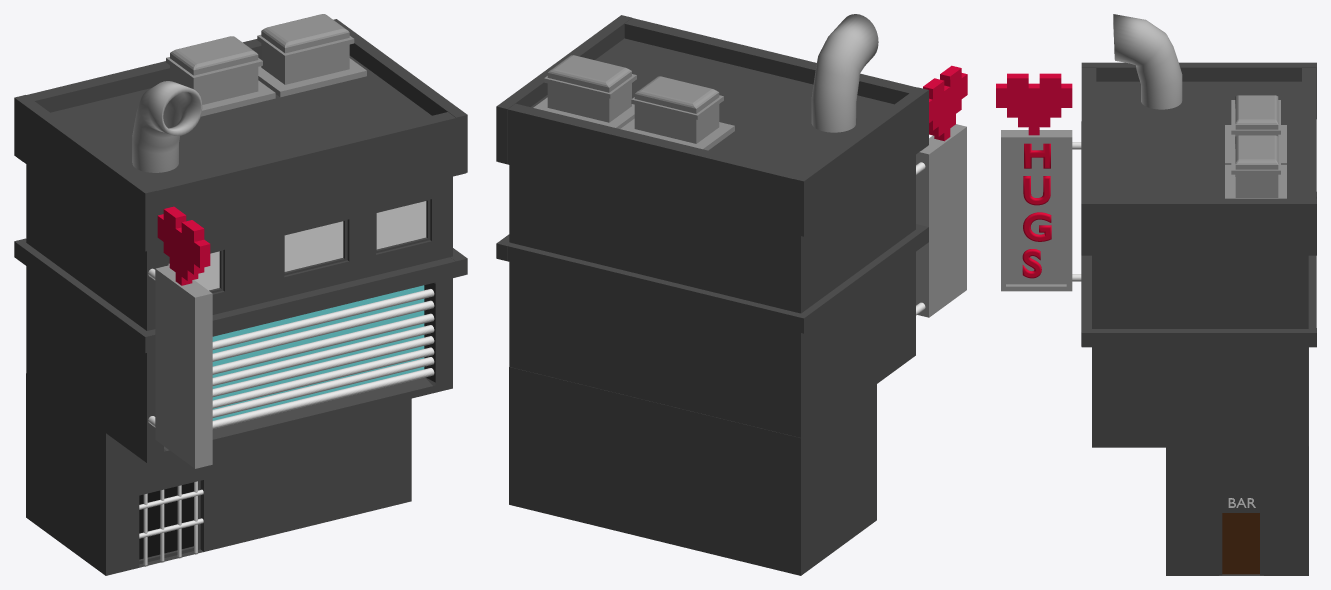
File: Edificio1_2.fbx
3 renders of one model, left to right at view 1: azimuth 30°, elevation 25°; view 2: azimuth 150°, elevation 25°; view 3: azimuth 270°, elevation 25°, orthographic. The views are drawn at different scales.
Visible parts, largest first — view 1: Куб.009, Цилиндр.013, Куб.025, Куб.028, Цилиндр.003, Куб.043, Цилиндр.020, Цилиндр; view 2: Куб.009, Куб.025, Куб.028, Цилиндр.003, Куб.043; view 3: Куб.009, Куб.028, Куб.025, Цилиндр.003, Куб.043, Текст.001.
Boxes of the visible parts, x1,y1,x2,y2 form: Куб.009: [14, 19, 467, 575]; Цилиндр.013: [212, 289, 434, 428]; Куб.025: [166, 14, 366, 116]; Куб.028: [155, 265, 212, 468]; Цилиндр.003: [132, 81, 202, 172]; Куб.043: [157, 206, 210, 285]; Цилиндр.020: [143, 481, 197, 566]; Цилиндр: [139, 489, 203, 538]; Куб.009: [496, 15, 928, 575]; Куб.025: [533, 55, 734, 150]; Куб.028: [916, 124, 966, 317]; Цилиндр.003: [811, 14, 878, 132]; Куб.043: [923, 65, 967, 141]; Куб.009: [1081, 62, 1316, 575]; Куб.028: [1001, 130, 1072, 291]; Куб.025: [1225, 95, 1286, 198]; Цилиндр.003: [1113, 14, 1182, 109]; Куб.043: [996, 73, 1072, 135]; Текст.001: [1022, 143, 1051, 278].
Size of the model in its own units: 2156 by 3188 by 2069.
